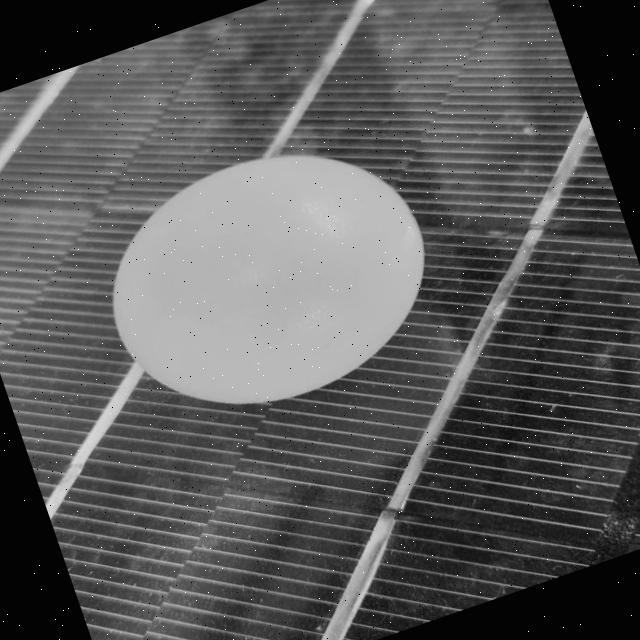ping-pong-ball: (70, 106, 462, 457)
